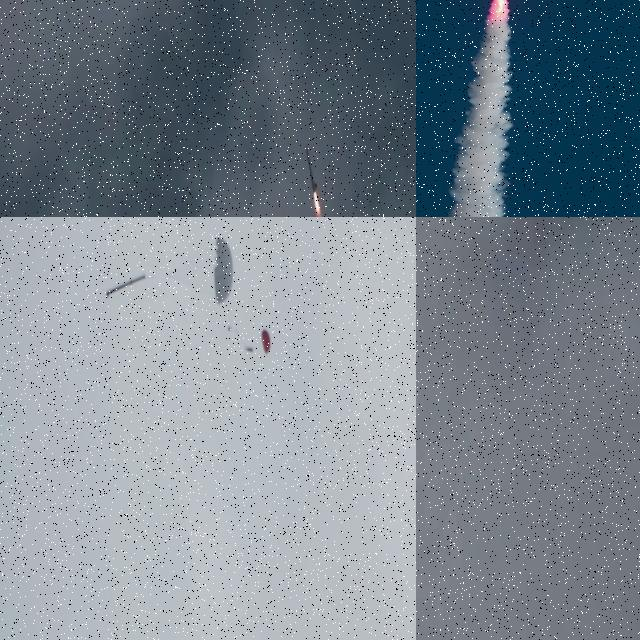Rocket: (106, 274, 146, 296), (306, 145, 317, 194)
